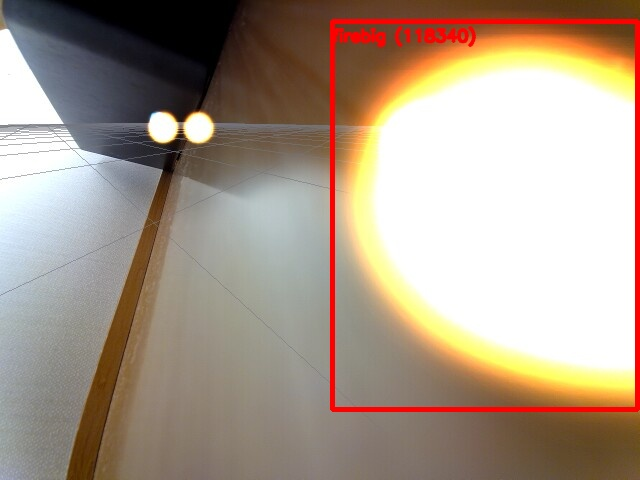firebig: (332, 21, 637, 409)
